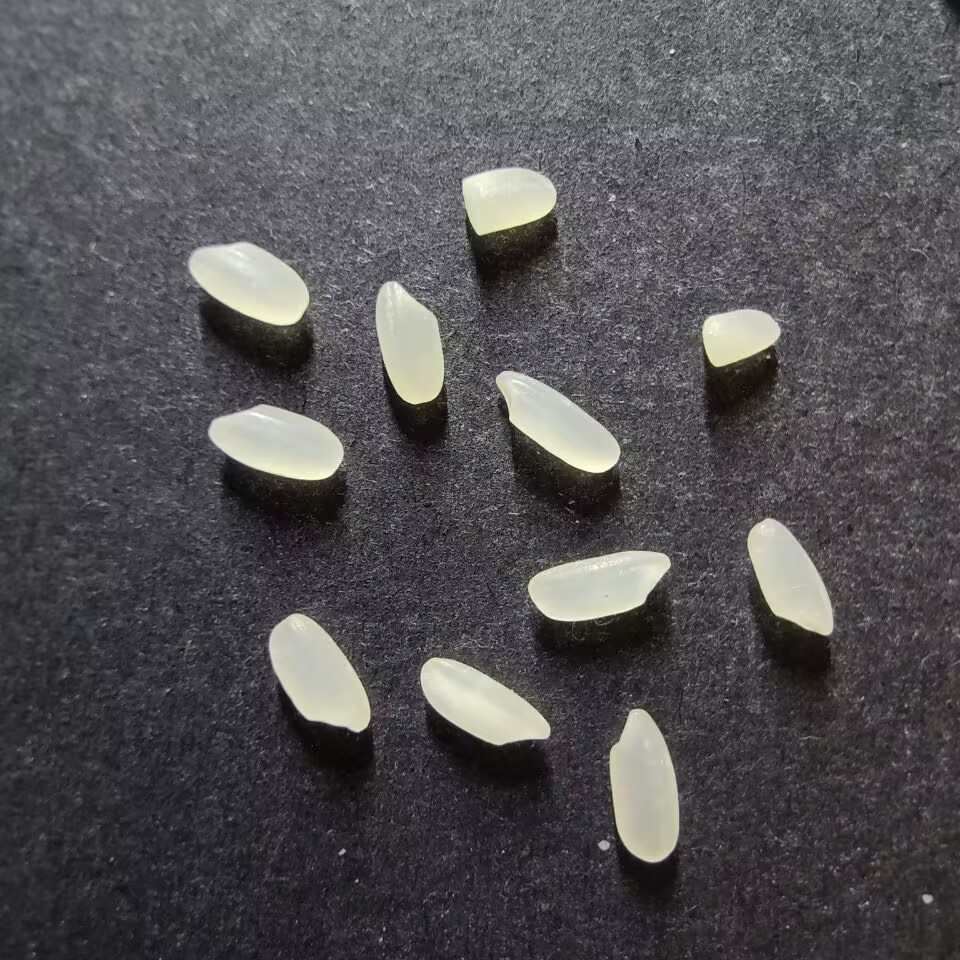broken: (462, 167, 558, 236), (701, 308, 782, 366)
rice: (495, 369, 622, 474), (269, 612, 372, 733), (420, 656, 551, 745), (609, 707, 681, 863), (747, 517, 836, 637), (208, 403, 344, 481), (528, 549, 672, 622), (189, 241, 310, 325), (376, 280, 445, 404)
